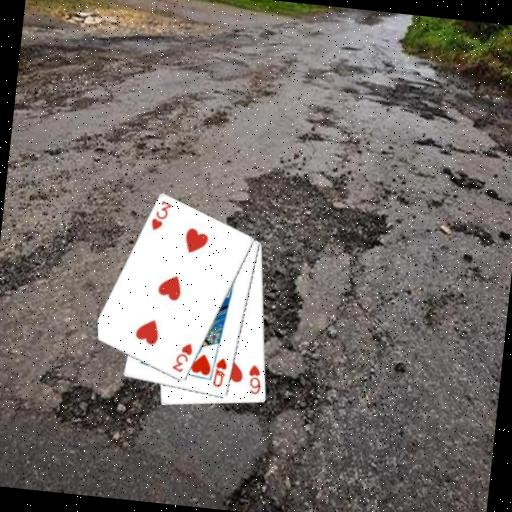3H: (147, 198, 174, 235), (169, 339, 195, 375)
6H: (244, 361, 265, 397)
QH: (210, 355, 230, 390)
